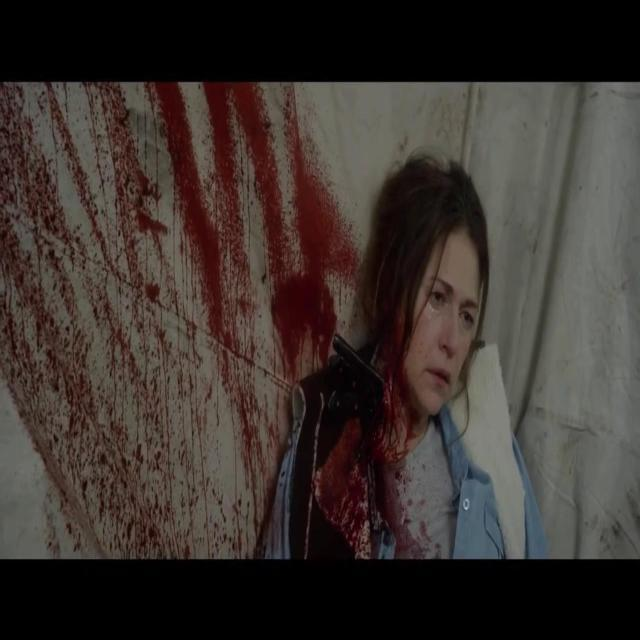flood: (1, 83, 431, 566)
